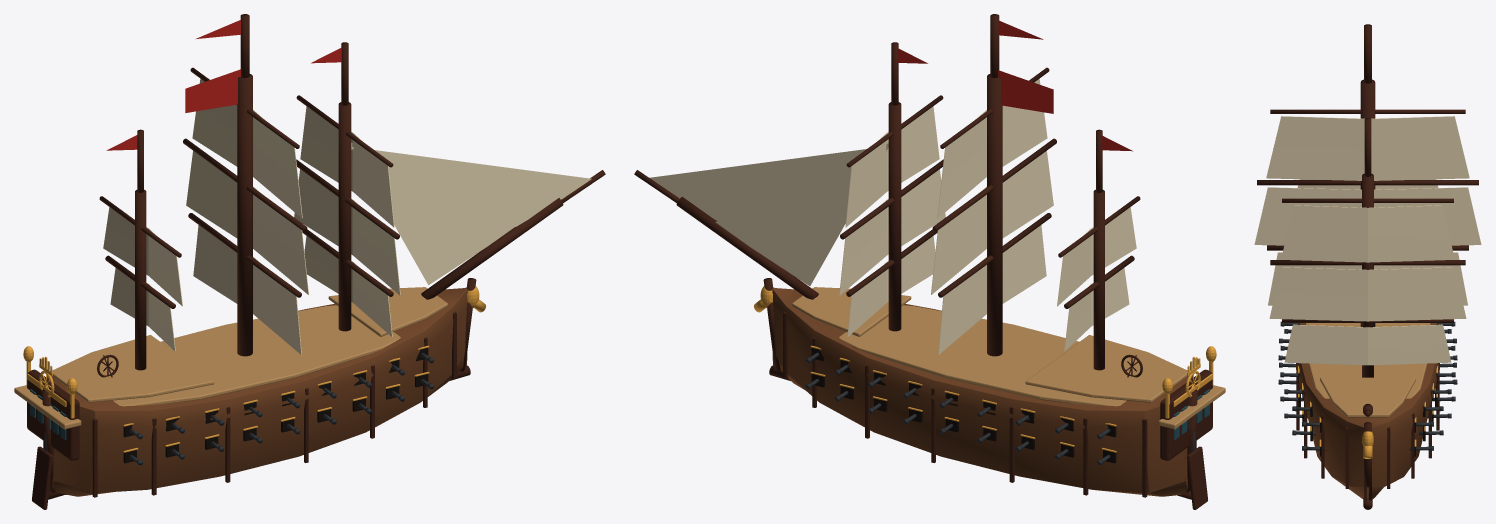
File: AgeOfSailWarship.fbx
3 renders of one model, left to right at view 1: azimuth 30°, elevation 25°; view 2: azimuth 150°, elevation 25°; view 3: azimuth 270°, elevation 25°, orthographic. The views are drawn at different scales.
Visible parts, largest first — view 1: Hull_Main_Lofted, Deck_Upper_Main, Jib_Inner, Jib_Outer, Deck_Quarterdeck, Main_SquareSail_1, Main_SquareSail_0, Main_SquareSail_2, Fore_SquareSail_1, Main_Mast, Fore_SquareSail_0, Fore_Mast (+13 smaller); view 2: Hull_Main_Lofted, Deck_Upper_Main, Jib_Inner, Jib_Outer, Deck_Quarterdeck, Main_SquareSail_1, Main_SquareSail_0, Main_SquareSail_2, Fore_SquareSail_1, Main_Mast, Fore_SquareSail_0, Fore_Mast (+13 smaller); view 3: Main_SquareSail_0, Fore_SquareSail_1, Fore_SquareSail_0, Hull_Main_Lofted, Fore_SquareSail_2, Main_SquareSail_1, Deck_Forecastle, Deck_Upper_Main, Main_Yard_1, Main_SquareSail_2, Fore_Yard_1, Main_Yard_0 (+8 smaller).
Boxes of the visible parts, <box> form: Hull_Main_Lofted: <box>47,287,467,496</box>; Deck_Upper_Main: <box>113,305,400,406</box>; Jib_Inner: <box>351,143,514,285</box>; Jib_Outer: <box>351,147,591,226</box>; Deck_Quarterdeck: <box>52,335,214,402</box>; Main_SquareSail_1: <box>186,151,308,294</box>; Main_SquareSail_0: <box>192,79,302,218</box>; Main_SquareSail_2: <box>193,225,301,354</box>; Fore_SquareSail_1: <box>294,169,400,295</box>; Main_Mast: <box>237,74,252,356</box>; Fore_SquareSail_0: <box>300,106,394,227</box>; Fore_Mast: <box>338,102,351,331</box>; Hull_Main_Lofted: <box>772,287,1192,496</box>; Deck_Upper_Main: <box>839,305,1126,406</box>; Jib_Inner: <box>715,143,888,285</box>; Jib_Outer: <box>649,149,866,220</box>; Deck_Quarterdeck: <box>1025,335,1187,402</box>; Main_SquareSail_1: <box>931,151,1053,294</box>; Main_SquareSail_0: <box>937,79,1047,218</box>; Main_SquareSail_2: <box>938,225,1046,354</box>; Fore_SquareSail_1: <box>839,169,945,295</box>; Main_Mast: <box>987,74,1002,356</box>; Fore_SquareSail_0: <box>845,106,939,227</box>; Fore_Mast: <box>888,102,901,331</box>; Main_SquareSail_0: <box>1266,116,1469,180</box>; Fore_SquareSail_1: <box>1269,267,1466,321</box>; Fore_SquareSail_0: <box>1281,205,1454,262</box>; Hull_Main_Lofted: <box>1296,323,1439,500</box>; Fore_SquareSail_2: <box>1284,324,1451,365</box>; Main_SquareSail_1: <box>1254,187,1481,245</box>; Deck_Forecastle: <box>1320,377,1415,417</box>; Deck_Upper_Main: <box>1305,323,1430,398</box>; Main_Yard_1: <box>1257,180,1478,185</box>; Main_SquareSail_2: <box>1268,252,1467,305</box>; Fore_Yard_1: <box>1270,260,1465,265</box>; Main_Yard_0: <box>1270,109,1465,113</box>.
Bounding box in the file's own units: 3637 × 2705 × 1360.
